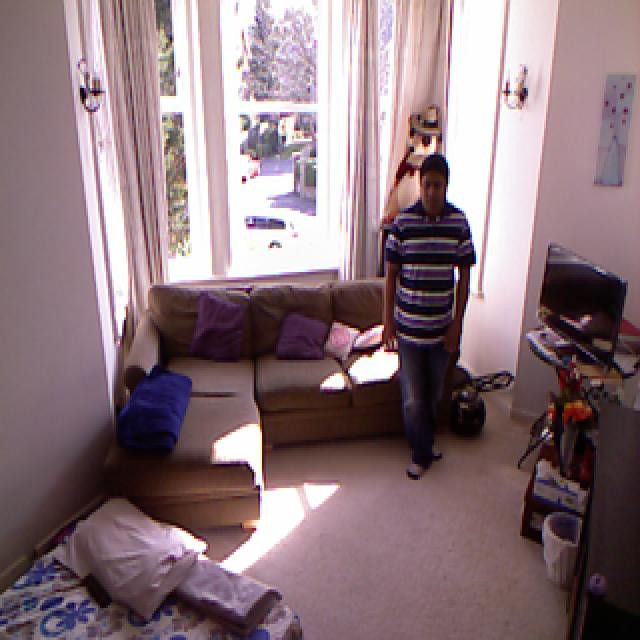standing: (380, 156, 473, 484)
